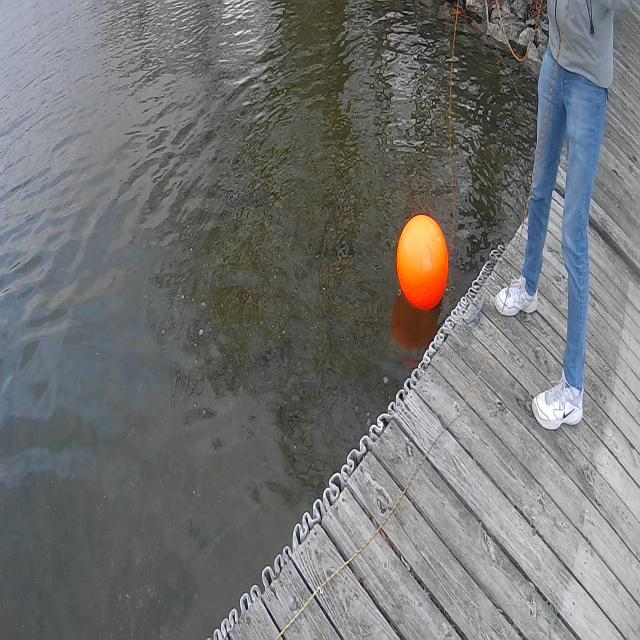Buoy: (393, 207, 451, 318)
